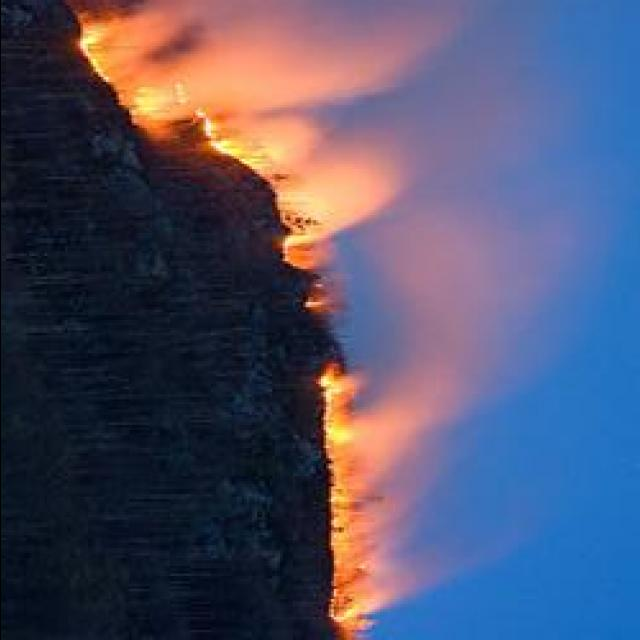fire: (278, 176, 382, 232), (200, 124, 306, 166), (124, 84, 186, 128), (326, 596, 371, 630), (76, 16, 104, 64), (316, 362, 353, 398), (326, 419, 356, 448)
smoke: (203, 5, 416, 109), (354, 350, 474, 452), (379, 210, 472, 318), (297, 92, 393, 186), (100, 0, 189, 68), (374, 549, 429, 600)
